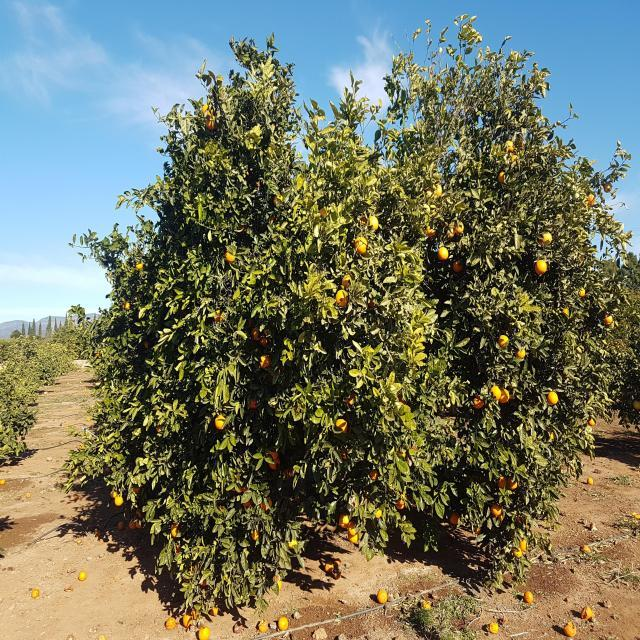Jeruk Sudah Matang: (355, 236, 368, 254), (260, 352, 272, 370), (498, 388, 511, 404), (260, 495, 272, 512), (336, 290, 348, 307), (292, 400, 306, 414), (538, 231, 552, 245), (266, 447, 279, 462), (534, 260, 547, 275), (489, 386, 502, 401), (348, 520, 360, 536), (198, 625, 210, 640), (336, 418, 348, 433), (216, 414, 227, 430), (339, 513, 350, 529), (368, 292, 379, 308), (202, 104, 214, 118), (205, 116, 217, 130), (269, 364, 281, 378), (277, 616, 289, 630), (367, 216, 379, 230), (437, 246, 449, 260), (562, 306, 574, 320), (546, 391, 558, 405), (346, 392, 356, 408), (224, 250, 237, 262), (214, 309, 226, 322), (132, 482, 144, 495), (282, 463, 294, 476), (318, 208, 330, 221), (182, 614, 193, 628), (377, 590, 388, 604), (348, 530, 359, 544), (491, 502, 502, 516), (269, 458, 281, 470), (449, 512, 461, 524), (430, 184, 442, 196), (348, 496, 359, 509), (498, 335, 509, 348), (342, 275, 352, 289), (454, 220, 464, 234), (586, 193, 596, 207), (474, 394, 484, 408), (230, 474, 238, 491), (272, 195, 284, 206), (171, 524, 182, 536), (243, 495, 254, 507), (453, 260, 464, 272), (514, 347, 526, 358), (507, 478, 518, 490), (366, 496, 376, 509), (518, 514, 528, 527), (259, 618, 268, 632), (273, 578, 282, 592), (426, 226, 437, 237), (248, 397, 258, 409), (398, 392, 408, 404), (498, 477, 508, 489), (373, 505, 382, 518), (325, 560, 333, 574), (518, 540, 528, 551), (512, 547, 522, 558), (114, 495, 123, 507), (191, 608, 200, 620), (498, 172, 507, 184), (545, 429, 554, 441), (604, 314, 613, 326), (251, 328, 259, 341), (235, 481, 243, 494), (238, 224, 248, 234), (288, 538, 298, 548), (395, 500, 405, 510), (497, 508, 504, 522), (129, 518, 137, 530), (425, 190, 433, 202), (446, 226, 454, 238), (506, 140, 514, 152), (369, 470, 378, 480), (511, 156, 520, 166), (136, 507, 144, 518), (78, 570, 86, 581), (200, 576, 207, 588), (122, 301, 131, 310), (272, 573, 281, 582), (118, 521, 126, 531), (32, 588, 40, 598), (210, 606, 218, 616), (182, 572, 190, 582), (221, 572, 229, 582), (334, 558, 342, 568), (341, 450, 349, 460), (398, 494, 406, 504), (516, 136, 524, 146), (604, 182, 612, 192), (578, 286, 586, 296), (136, 518, 143, 529), (252, 529, 259, 540), (136, 261, 144, 270), (214, 506, 223, 514), (168, 292, 175, 302), (475, 524, 482, 534), (270, 216, 278, 224), (110, 490, 118, 498), (294, 495, 302, 503), (422, 602, 430, 610), (588, 418, 596, 426), (334, 571, 341, 580), (176, 545, 182, 555), (248, 316, 254, 326), (397, 451, 405, 458), (534, 318, 541, 326), (578, 253, 584, 262), (156, 425, 162, 433), (261, 338, 267, 346), (0, 478, 6, 485), (264, 328, 270, 335), (514, 148, 520, 155), (508, 392, 514, 399), (588, 478, 594, 485), (276, 403, 280, 412), (144, 341, 149, 348), (95, 349, 100, 356), (556, 213, 561, 220), (242, 487, 248, 492), (80, 443, 84, 449), (256, 182, 260, 187), (106, 467, 110, 472), (247, 172, 250, 176), (66, 426, 69, 430), (68, 424, 72, 426), (88, 418, 90, 422), (532, 400, 536, 402), (86, 418, 88, 421), (73, 410, 75, 412), (101, 379, 102, 382), (94, 382, 95, 384)
